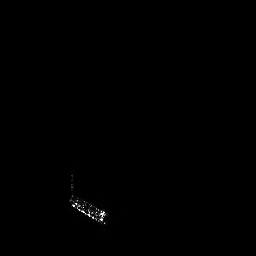ship: (67, 173, 107, 227)
